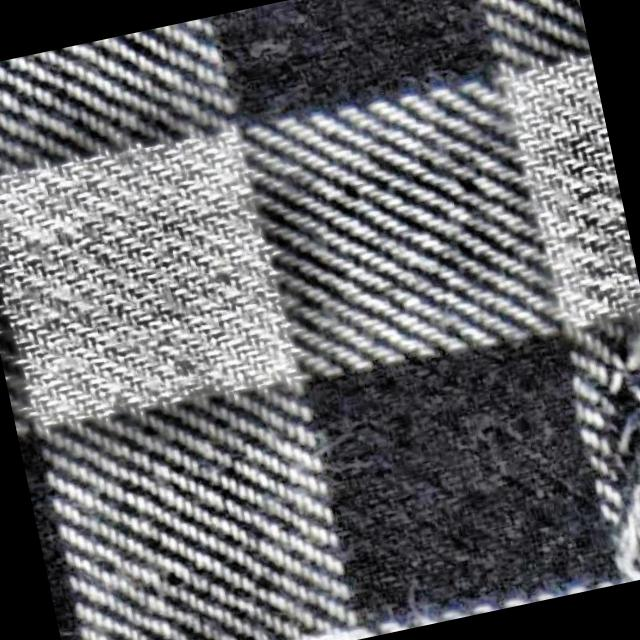cut: (546, 326, 640, 588)
